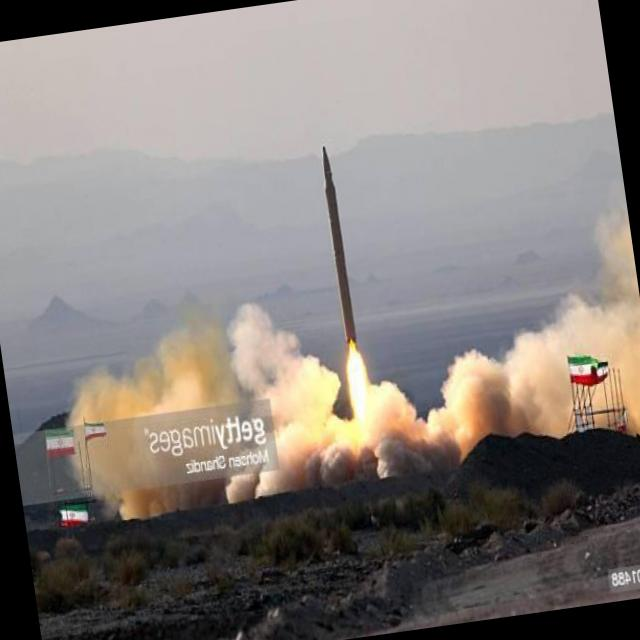rocket: (311, 140, 372, 377)
